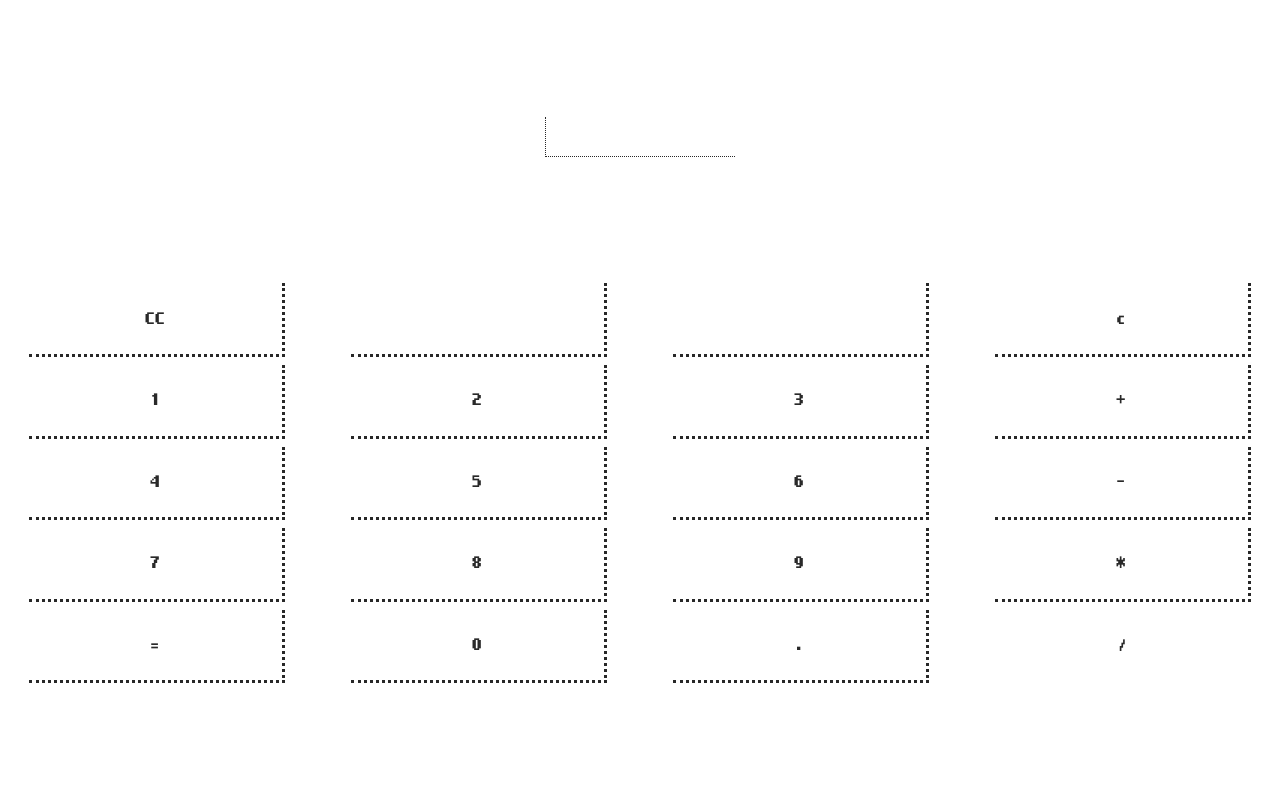
Test case: Calculator › displays numbers when keys are clicked
Click the button "1" at x=157, y=402, box [29,365,285,438]
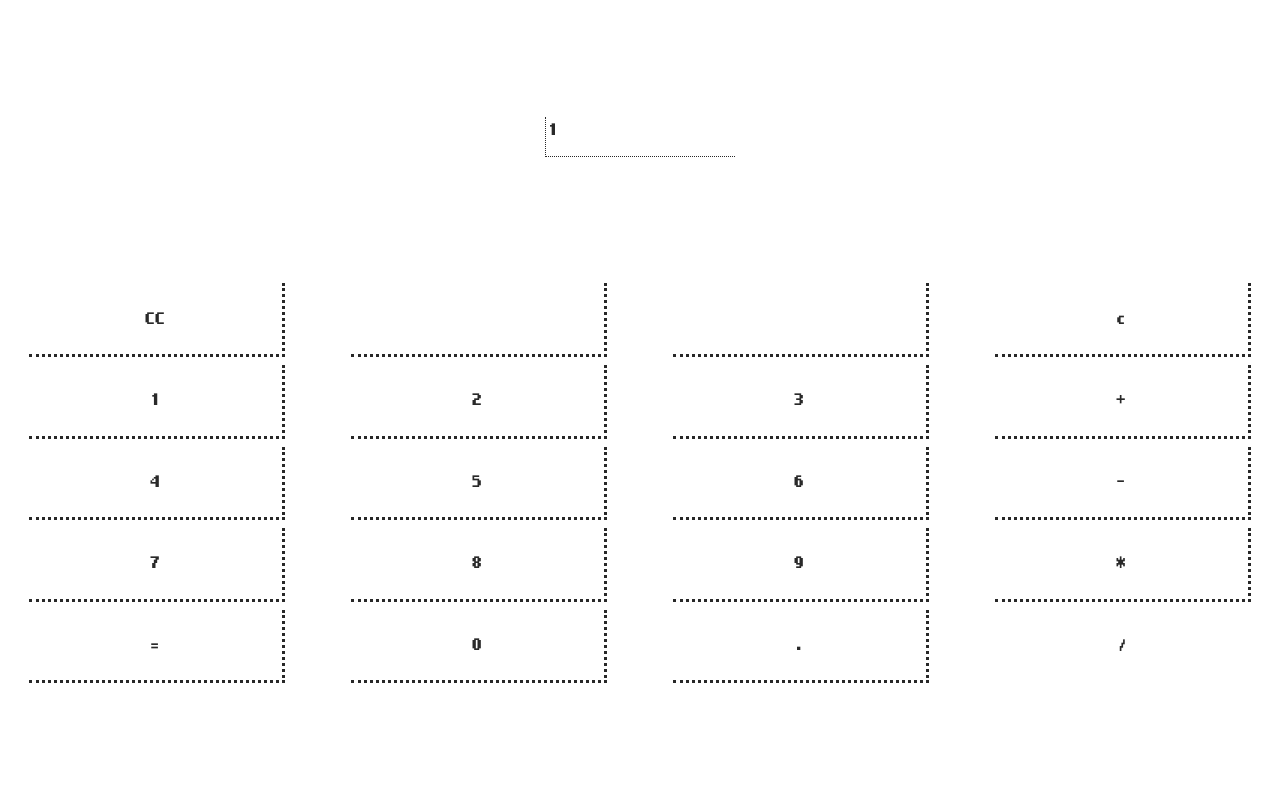
Click the button "2" at x=479, y=402, box [351,365,607,438]
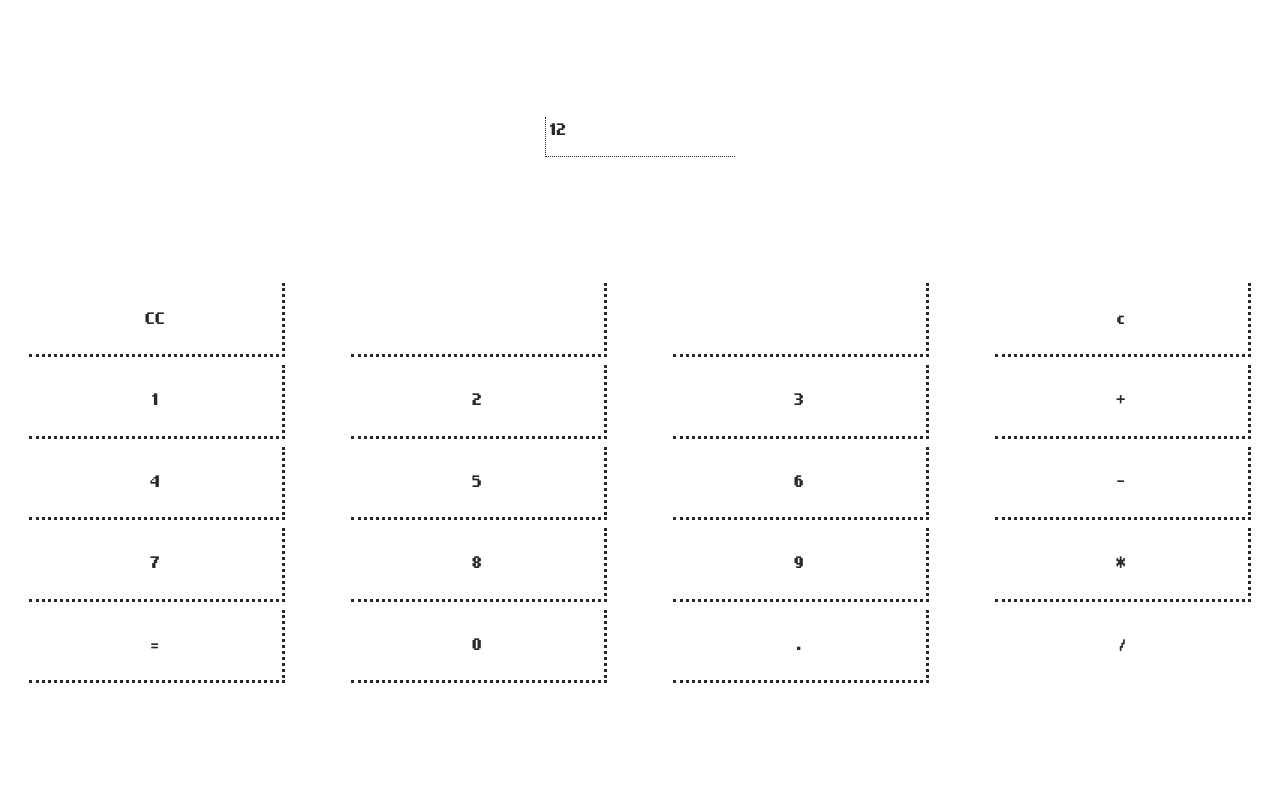
Click the button "3" at x=801, y=402, box [673,365,929,438]
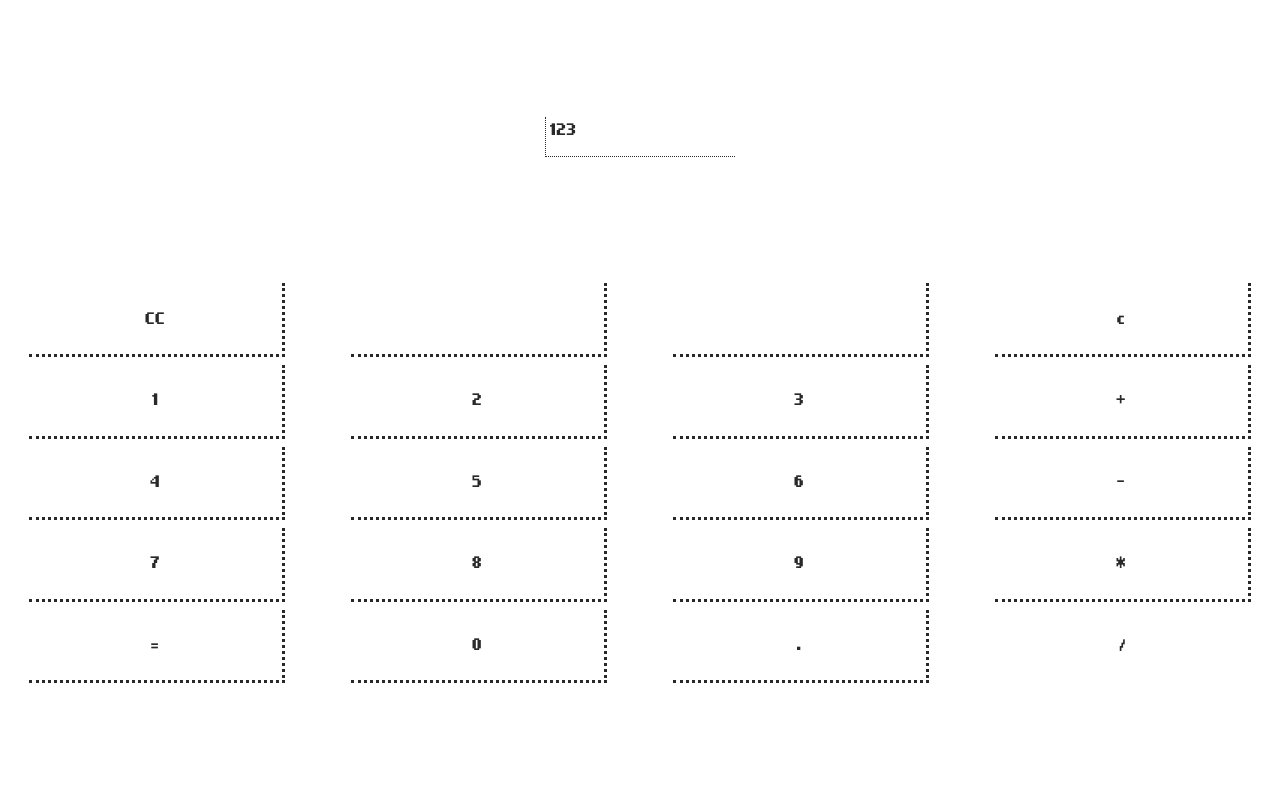
Expected: the text box holds "123", [545,117,735,157]
